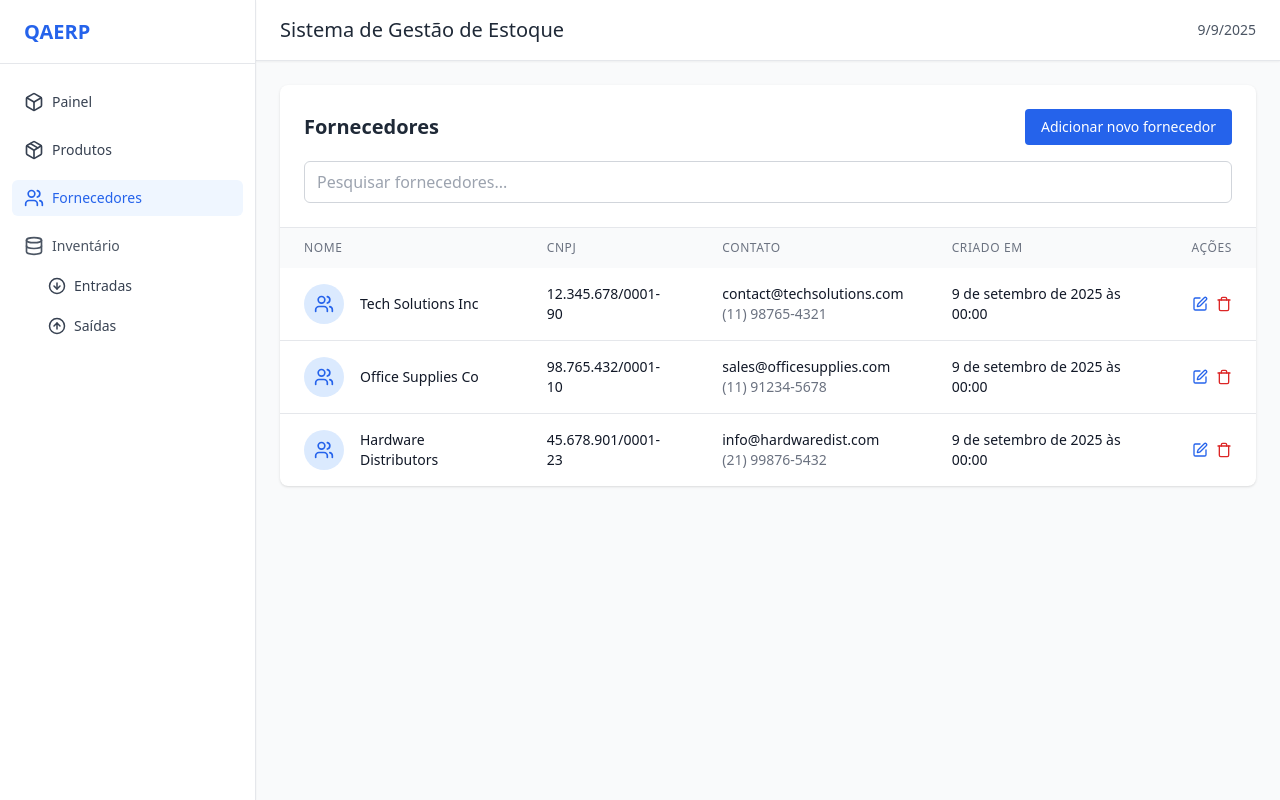
Test case: Fornececdores › Adicionar Fornecedores › Adicionar fornecedor válido
Click the button "Adicionar novo fornecedor": click(1129, 127) 1025,109 -> 1232,145
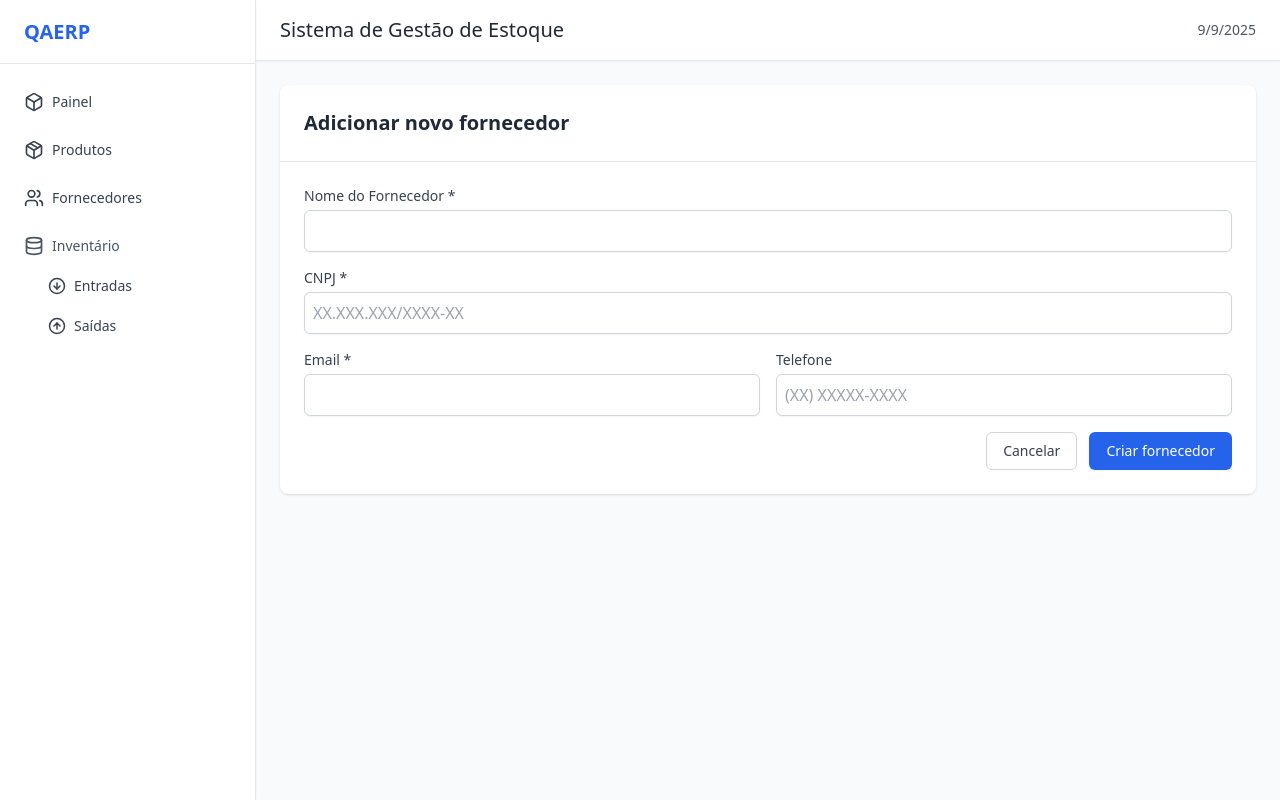
In the field with id "name": (768, 231) 304,210 -> 1232,252, type "Amazon LTDA"
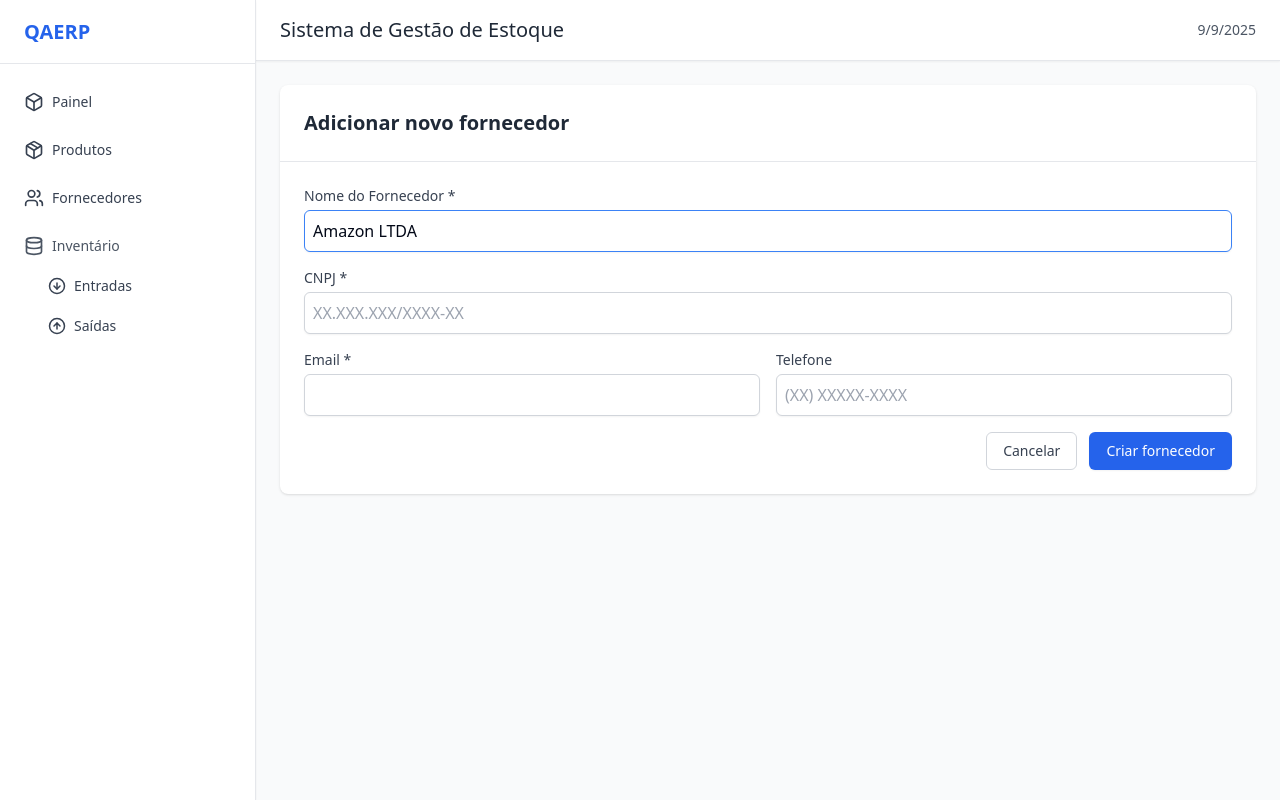
In the field with id "cnpj": (768, 313) 304,292 -> 1232,334, type "35.814.798/0001-62"
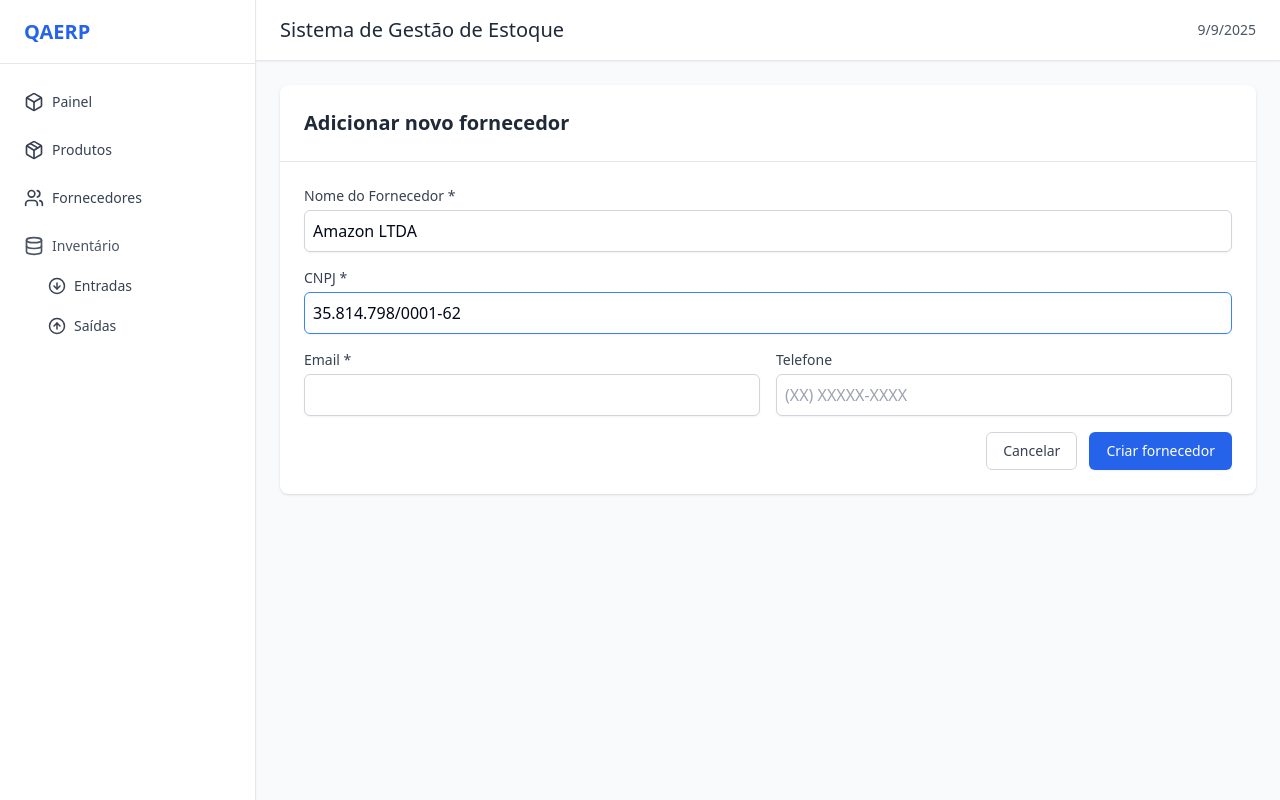
In the field with id "email": (532, 395) 304,374 -> 760,416, type "amazon@email.com"
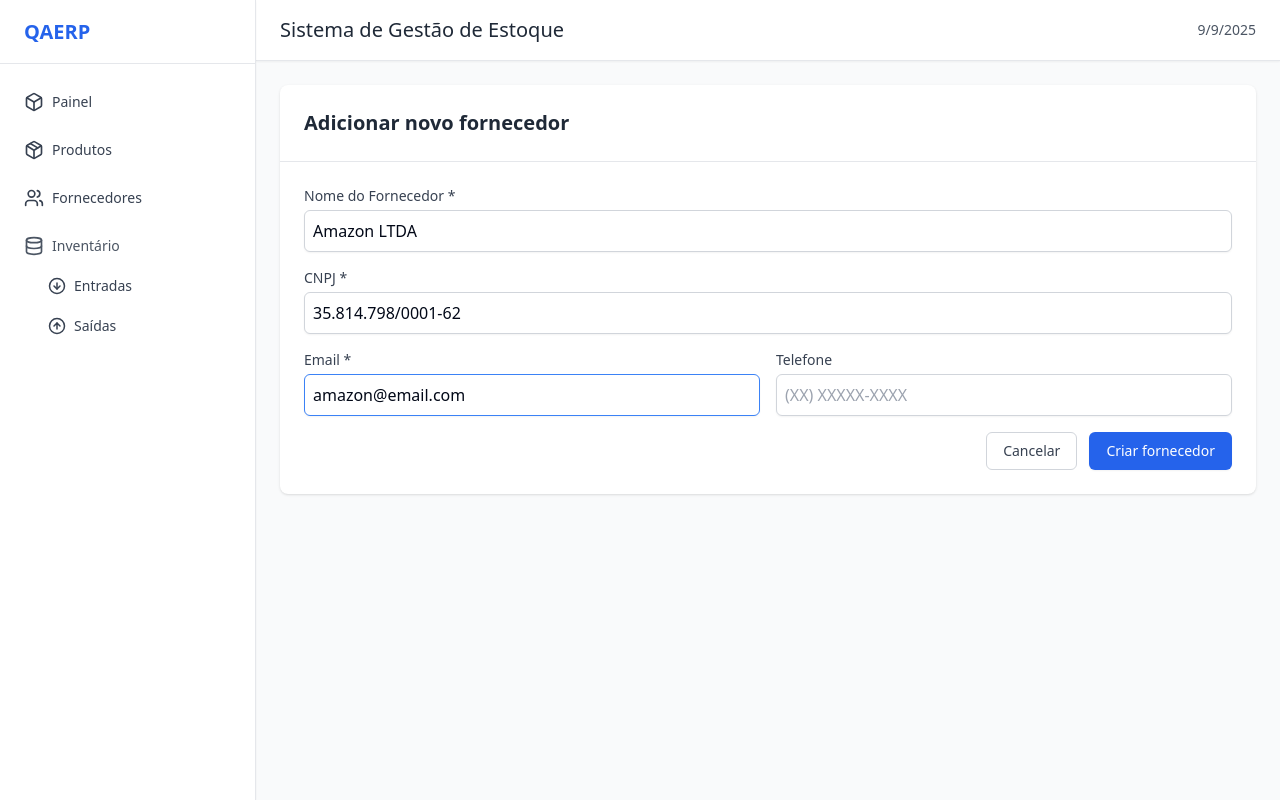
In the field labelled "Telefone": (1004, 395) 776,374 -> 1232,416, type "(62) 99999-9999"
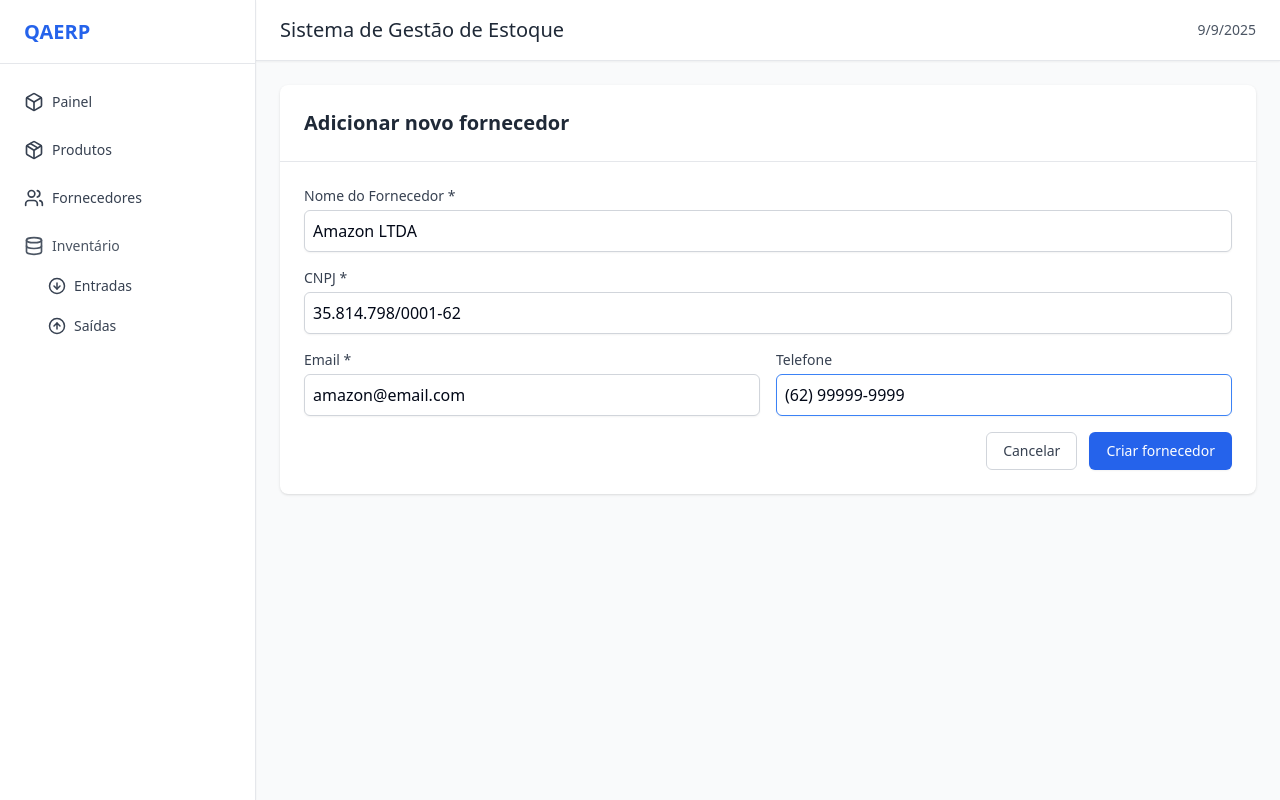
Click the button "Criar fornecedor": click(1161, 451) 1089,432 -> 1232,470
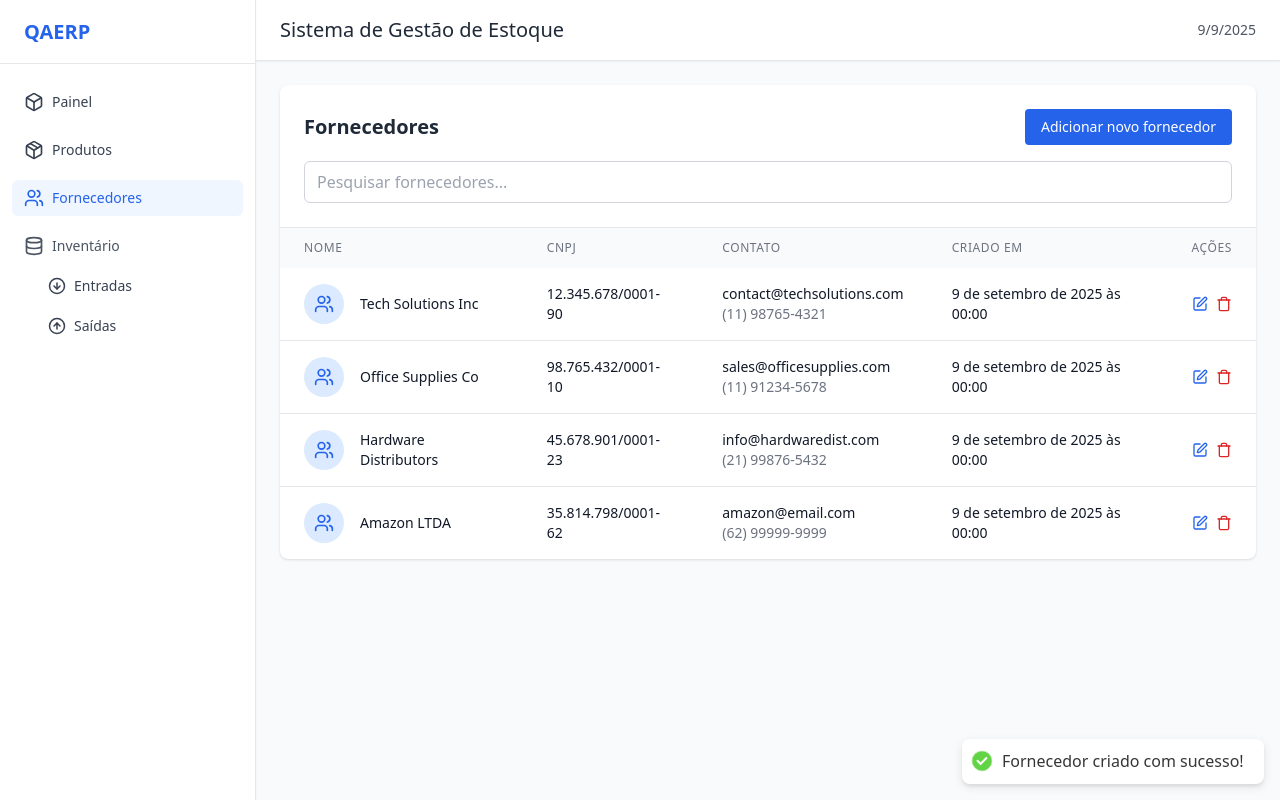
Expected: the text "Amazon LTDA" is shown, 360,513 -> 451,533
Expected: the text "Fornecedor criado com sucesso!" is shown, 1002,751 -> 1244,772
